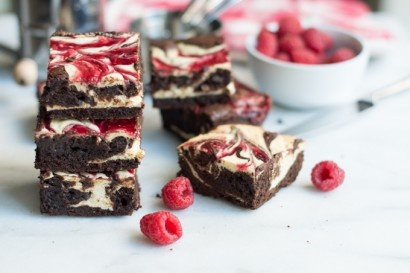background: (22, 14, 220, 81), (28, 15, 117, 104), (94, 14, 195, 89), (21, 12, 94, 92), (64, 3, 227, 27)
